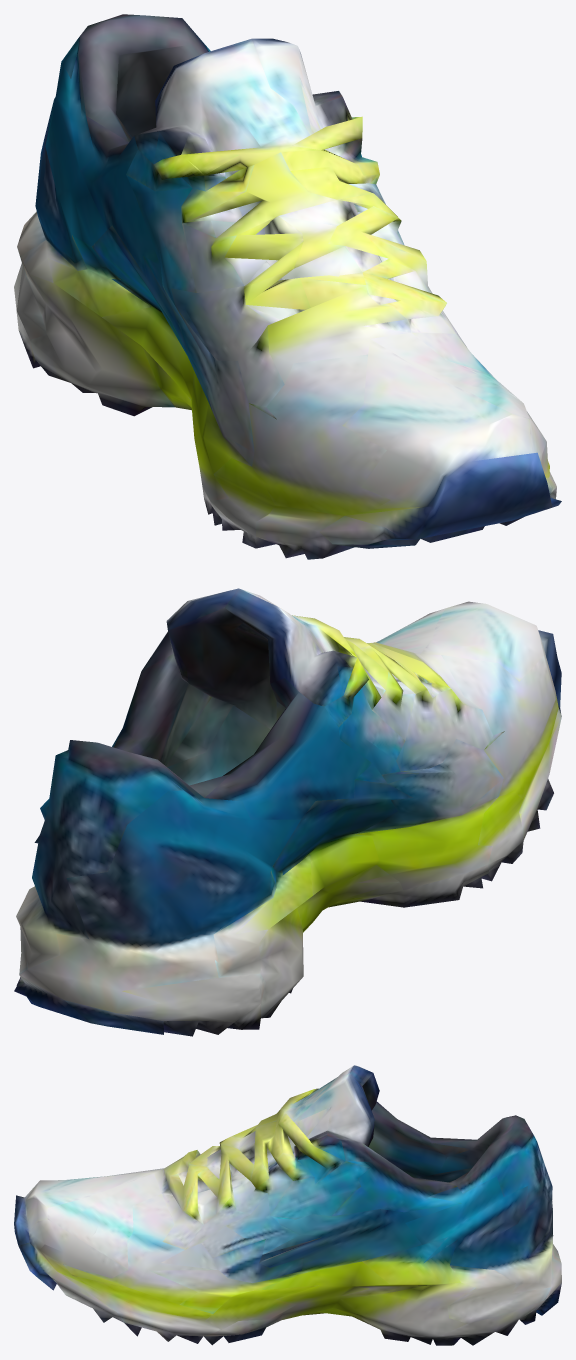
File: tenis-carbono.glb
3 renders of one model, top to bottom at view 1: azimuth 30°, elevation 25°; view 2: azimuth 150°, elevation 25°; view 3: azimuth 270°, elevation 25°, orthographic. The views are drawn at different scales.
Parts seen in each view (by area): view 1: tripo_node_c946ea24-69ed-466b-987d-ce684a415fc0; view 2: tripo_node_c946ea24-69ed-466b-987d-ce684a415fc0; view 3: tripo_node_c946ea24-69ed-466b-987d-ce684a415fc0.
Boxes of the visible parts, <box> form: tripo_node_c946ea24-69ed-466b-987d-ce684a415fc0: <box>14,14,561,559</box>; tripo_node_c946ea24-69ed-466b-987d-ce684a415fc0: <box>14,588,561,1036</box>; tripo_node_c946ea24-69ed-466b-987d-ce684a415fc0: <box>14,1065,561,1345</box>.
Size of the model in its own units: 0.3778 by 0.4775 by 1.
1 material, 1 textured.
